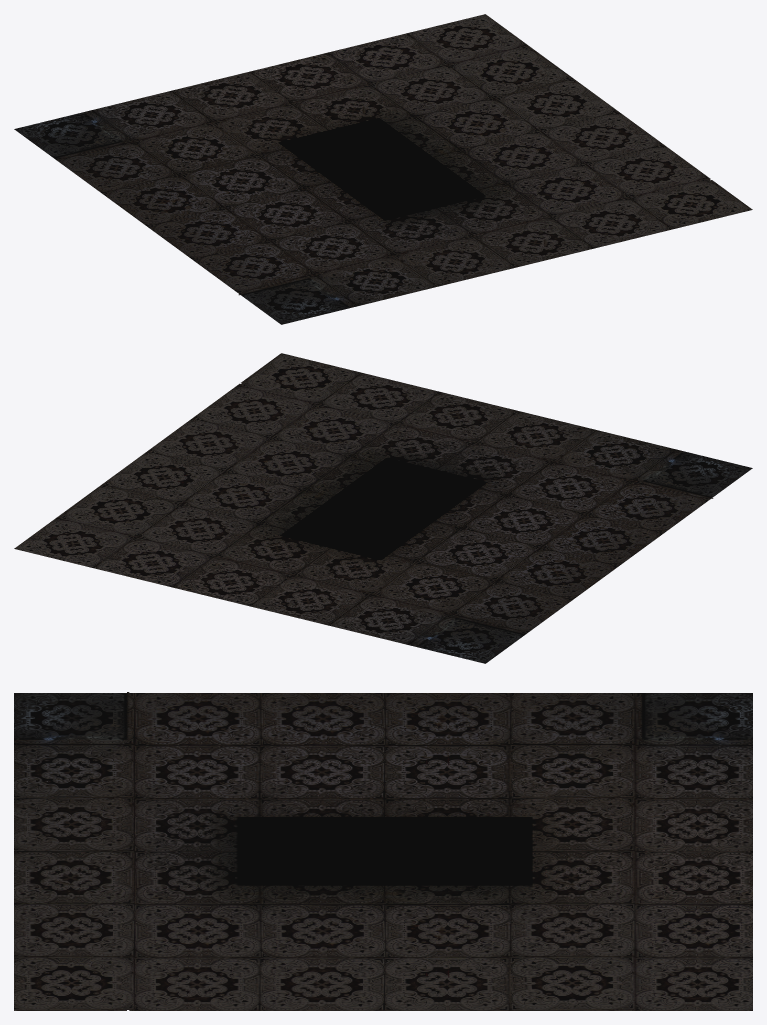
The model's file is AltarBaseDetail.obj.
3 renders of one model, top to bottom at view 1: azimuth 30°, elevation 25°; view 2: azimuth 150°, elevation 25°; view 3: azimuth 270°, elevation 25°, orthographic. The views are drawn at different scales.
Parts seen in each view (by area): view 1: Plane.000_1.002; view 2: Plane.000_1.002; view 3: Plane.000_1.002.
Part boxes in pixels (left/top/right/bottom): Plane.000_1.002: left=14, top=14, right=752, bottom=324; Plane.000_1.002: left=14, top=353, right=752, bottom=663; Plane.000_1.002: left=14, top=692, right=752, bottom=1010.
Size of the model in its own units: 5.52 by 1.91e-06 by 5.4.
